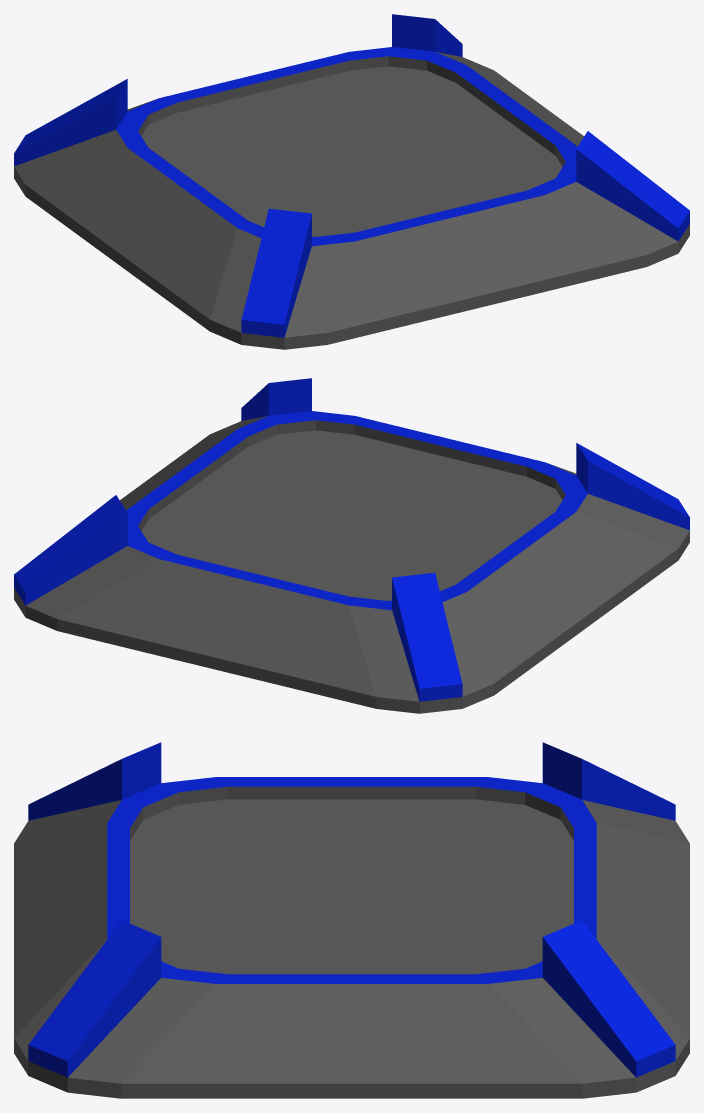
File: WeaponSpawnPlatform.fbx
3 renders of one model, top to bottom at view 1: azimuth 30°, elevation 25°; view 2: azimuth 150°, elevation 25°; view 3: azimuth 270°, elevation 25°, orthographic. The views are drawn at different scales.
Visible parts, largest first — view 1: BorderMaterial; view 2: BorderMaterial; view 3: BorderMaterial.
Part boxes in pixels (x1,y1,x2,y2): BorderMaterial: (14, 14, 689, 349); BorderMaterial: (14, 378, 689, 713); BorderMaterial: (14, 742, 689, 1098).
Bounding box in the file's own units: 200 × 38 × 200.
